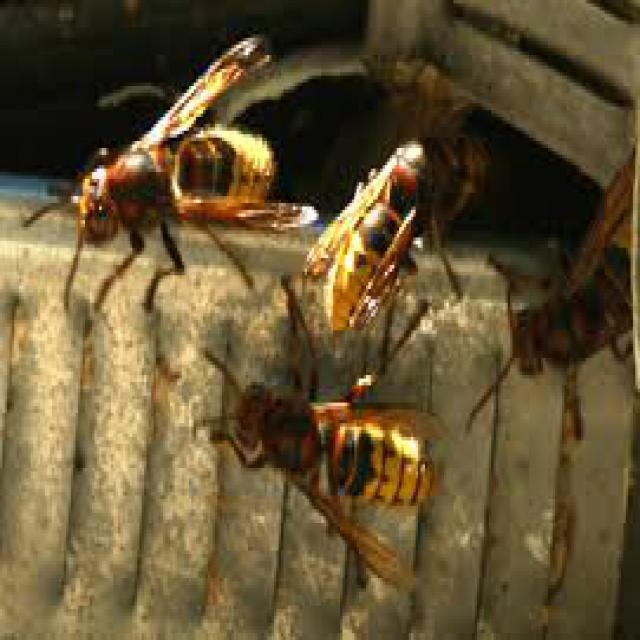Vespa Crabro: (187, 318, 452, 586), (30, 32, 290, 285), (301, 117, 474, 352)
